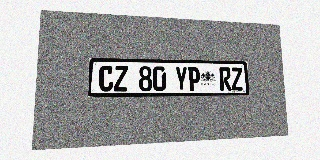0: (153, 66, 166, 91)
8: (139, 66, 152, 91)
C: (99, 65, 114, 92)
P: (188, 67, 200, 91)
R: (219, 67, 232, 91)
Y: (175, 67, 188, 91)
Z: (114, 66, 128, 91), (231, 67, 243, 90)
